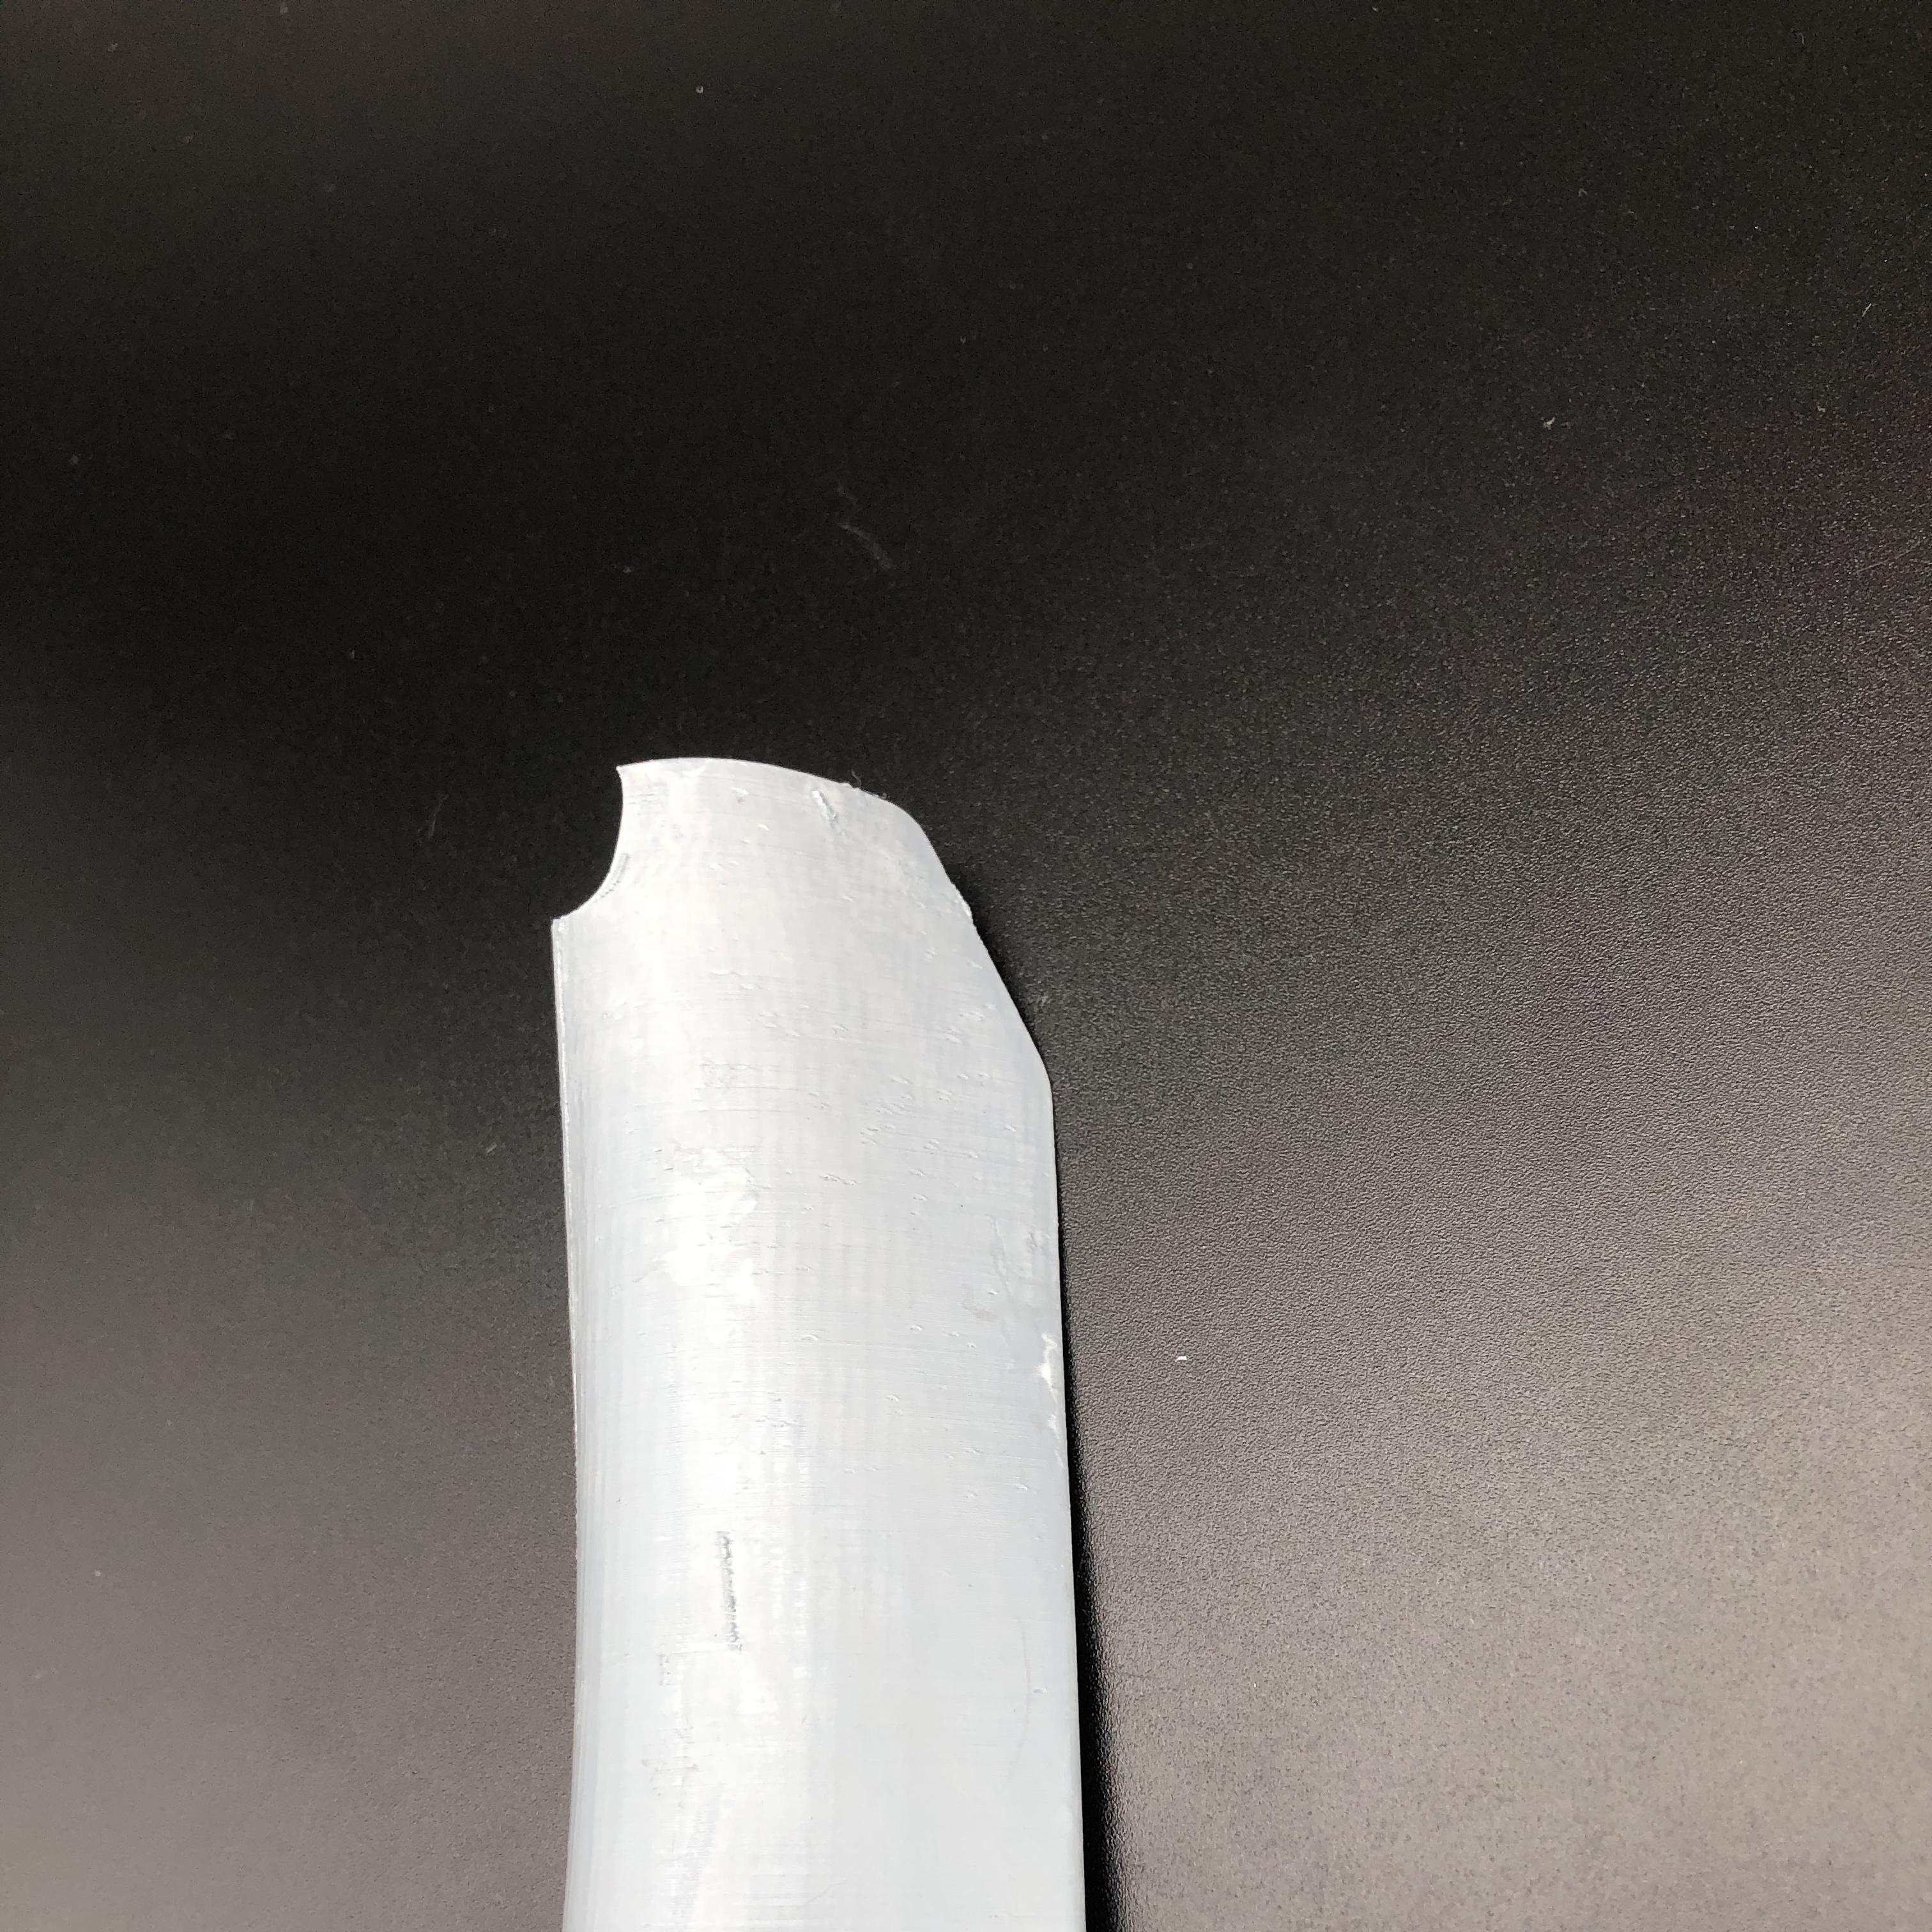fracture: (543, 766, 658, 925)
